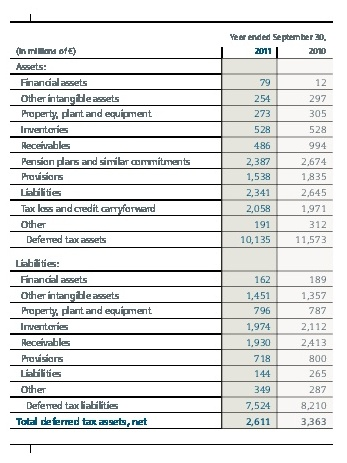table: (0, 0, 347, 463)
